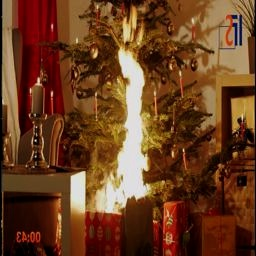fire: (89, 22, 155, 214)
